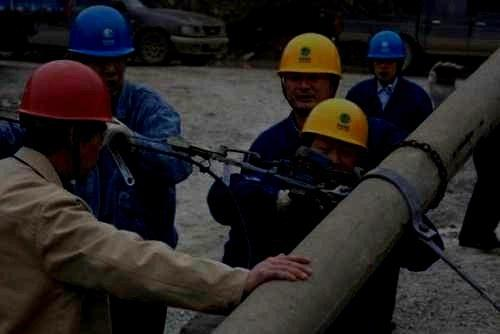helmet: (13, 59, 120, 178), (65, 5, 134, 95), (275, 33, 344, 109), (301, 98, 368, 168), (367, 30, 406, 82)
